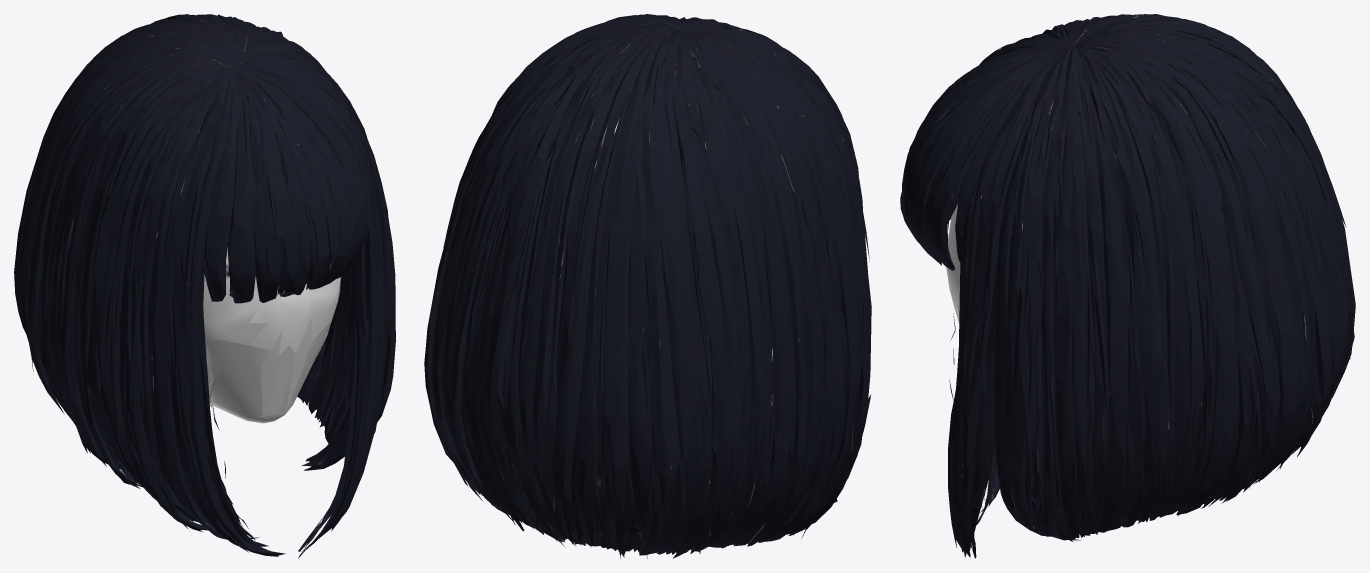
The model's file is hair_f_bob.glb.
The picture shows the model from 3 angles, left to right: view 1: azimuth 30°, elevation 25°; view 2: azimuth 150°, elevation 25°; view 3: azimuth 270°, elevation 25°; orthographic projection. The views are drawn at different scales.
Size of the model in its own units: 1.3 by 1.9 by 1.5.
1 material, 1 textured.
